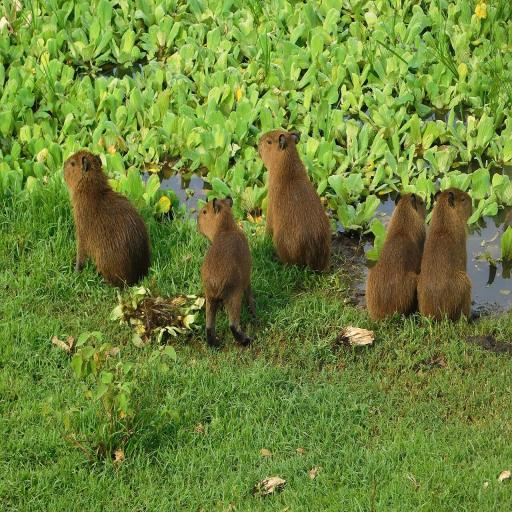capybara: (64, 151, 150, 287), (259, 131, 331, 270), (198, 196, 256, 346), (366, 194, 425, 320), (418, 188, 471, 321)
